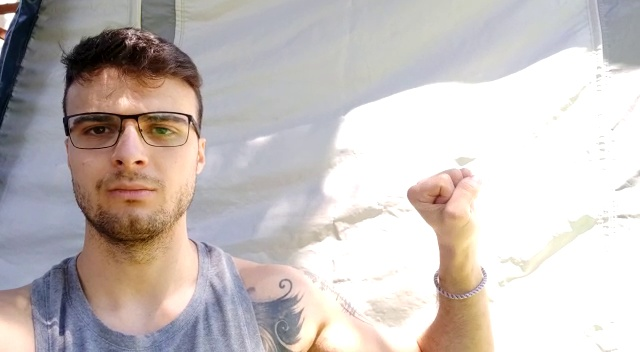Fist: (402, 156, 489, 242)
